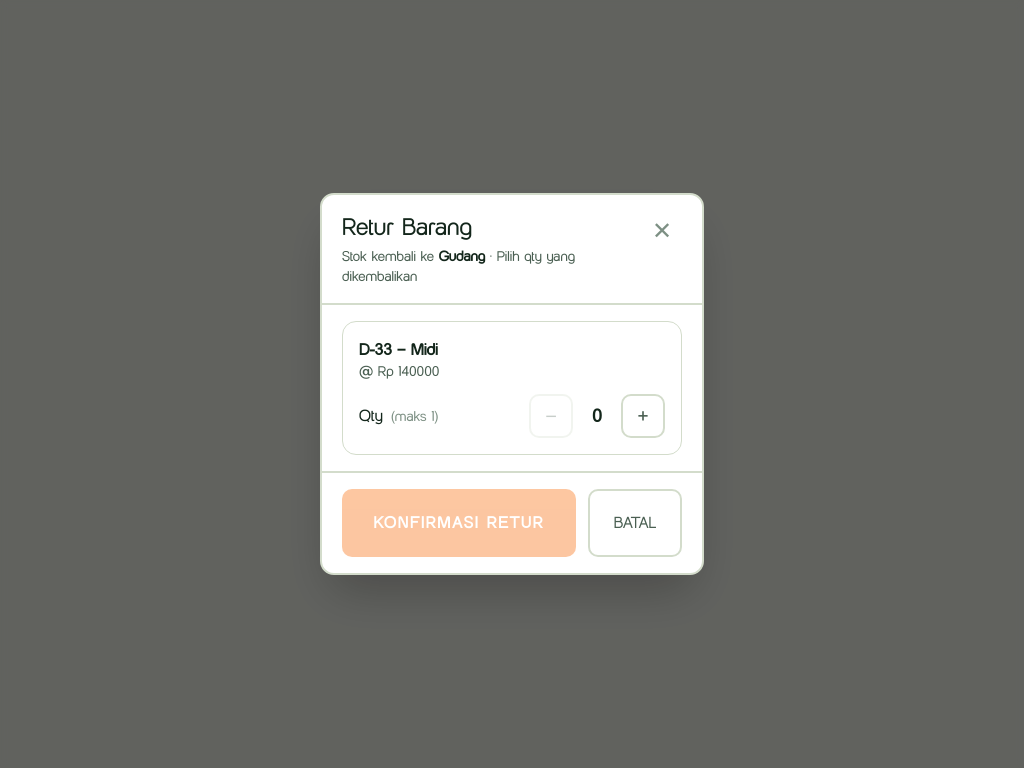
Test: ReturModal › diskon transaksi asal dialokasikan proporsional ke retur › footer 'Total retur' menampilkan nilai bersih (100000), bukan harga kotor (140000)
Click the button named "Tambah": (643, 416) x1=621 y1=394 x2=665 y2=438
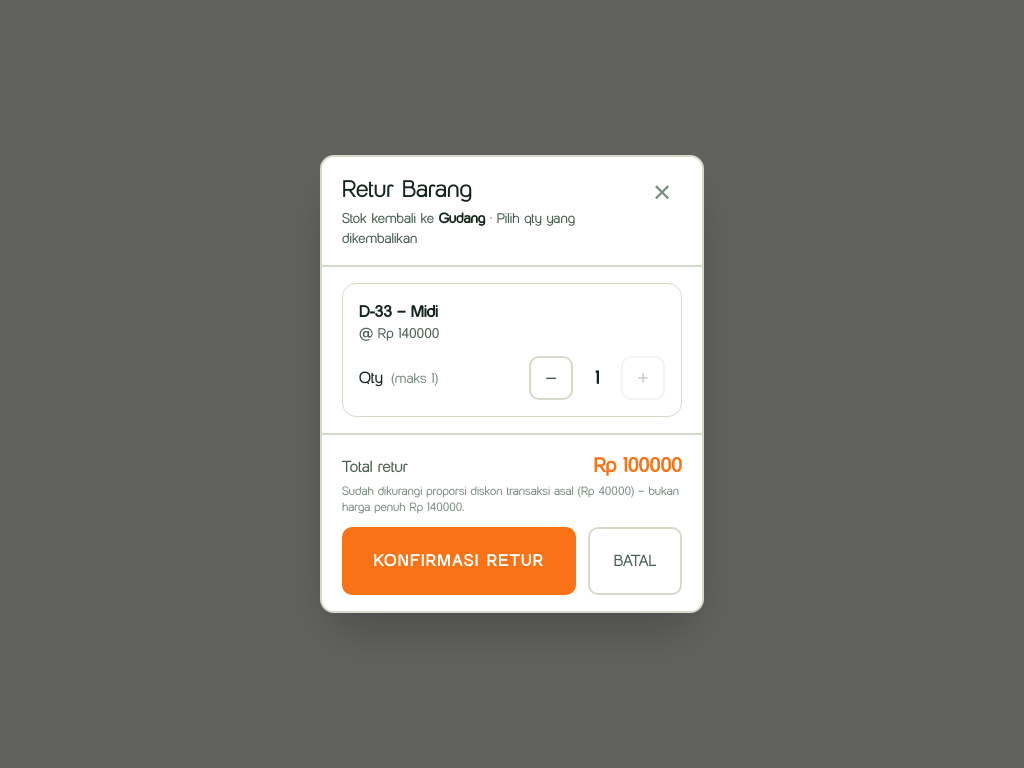
Expected: the text "Total retur" does not show "140000", x1=342 y1=451 x2=682 y2=479
Result: the text "Total retur" shows "Rp 100000" at x1=342 y1=451 x2=682 y2=479
